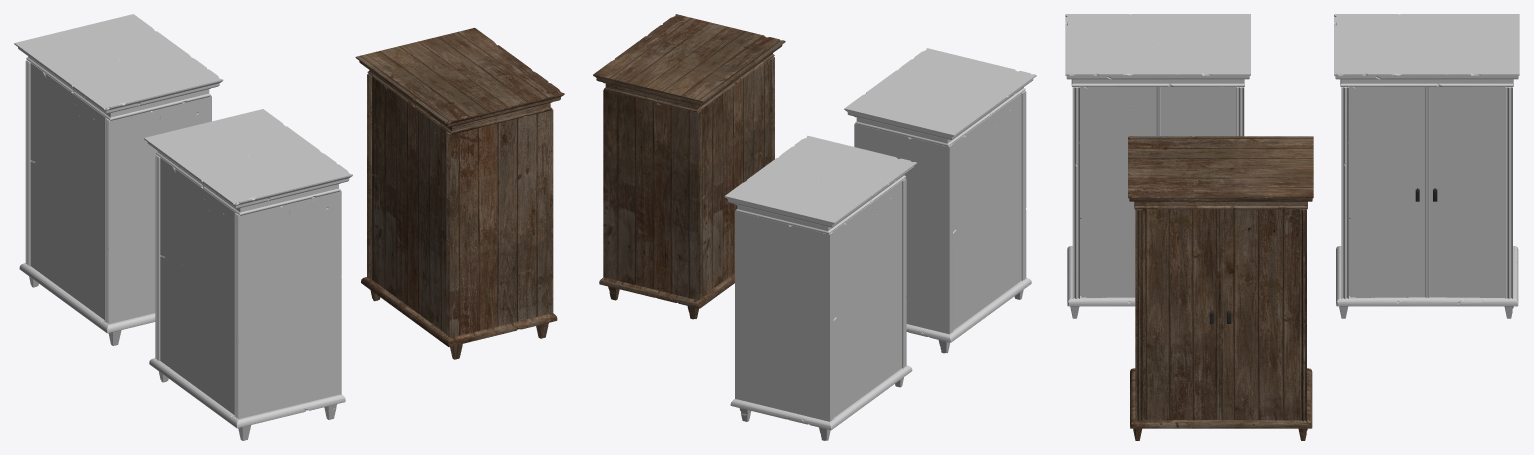
Rendered from Шкаф 2.fbx.
3 renders of one model, left to right at view 1: azimuth 30°, elevation 25°; view 2: azimuth 150°, elevation 25°; view 3: azimuth 270°, elevation 25°, orthographic. The views are drawn at different scales.
Parts seen in each view (by area): view 1: Cube_dmg.002, Cube_dmg, Cube_dmg.003; view 2: Cube_dmg.003, Cube_dmg.002, Cube_dmg; view 3: Cube_dmg.002, Cube_dmg.003, Cube.021, Cube.010, Cube.049_dmg.002, Cube.049_dmg.001, Cube_dmg, Cube.049_dmg, Cube.046.
Boxes of the visible parts, left/top/right/bottom form: Cube_dmg.002: left=355, top=27, right=564, bottom=359; Cube_dmg: left=144, top=109, right=352, bottom=440; Cube_dmg.003: left=14, top=14, right=223, bottom=345; Cube_dmg.003: left=724, top=135, right=917, bottom=440; Cube_dmg.002: left=593, top=14, right=785, bottom=319; Cube_dmg: left=844, top=48, right=1036, bottom=353; Cube_dmg.002: left=1128, top=136, right=1313, bottom=440; Cube_dmg.003: left=1334, top=14, right=1519, bottom=318; Cube.021: left=1427, top=86, right=1505, bottom=297; Cube.010: left=1221, top=208, right=1299, bottom=420; Cube.049_dmg.002: left=1348, top=86, right=1427, bottom=297; Cube.049_dmg.001: left=1142, top=209, right=1221, bottom=420; Cube_dmg: left=1065, top=14, right=1250, bottom=318; Cube.049_dmg: left=1079, top=86, right=1158, bottom=297; Cube.046: left=1158, top=86, right=1237, bottom=136.
Size of the model in its own units: 1308 by 842 by 1376.
